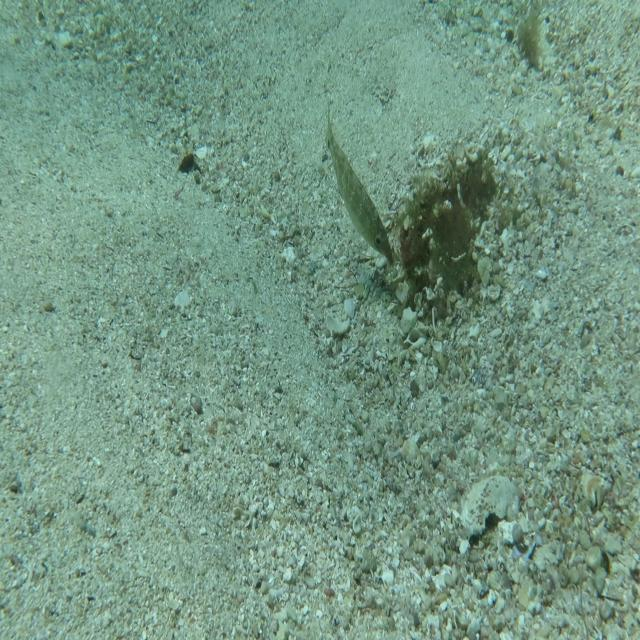AM: (322, 110, 393, 259)
core_nest: (460, 155, 496, 191)
nest: (390, 141, 507, 328)
nest_material: (385, 244, 398, 271)
vegetation: (516, 0, 548, 73), (178, 150, 197, 178)
